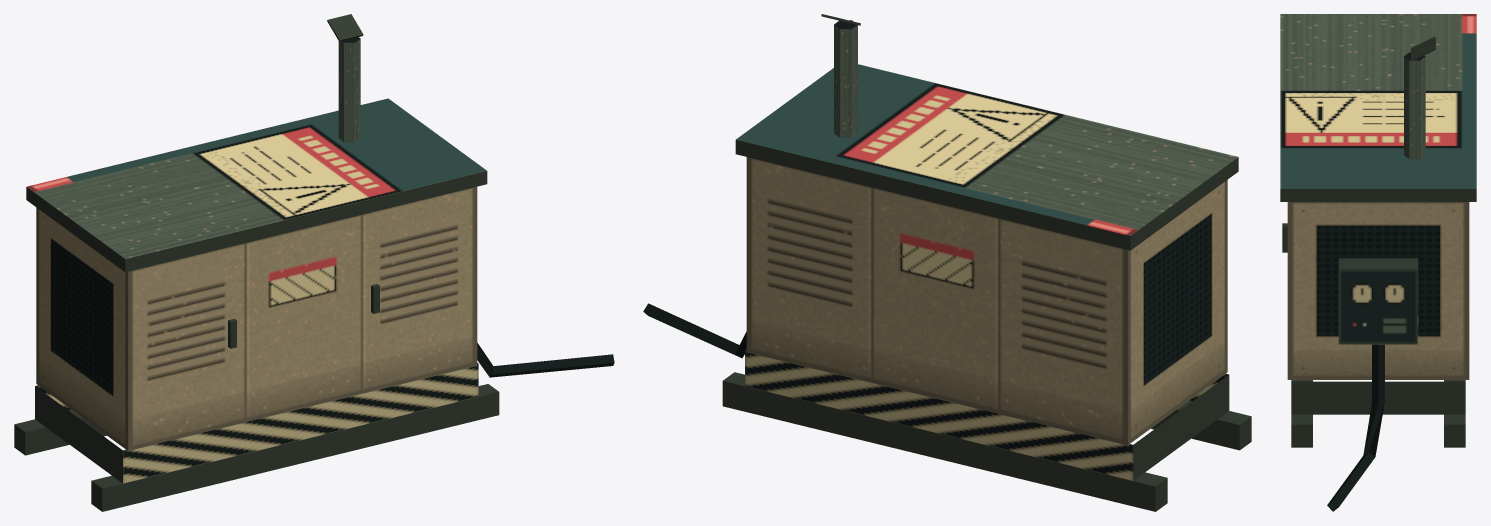
Rendered from SM_Forest_Generator_340x110x220.fbx.
3 views of the same model, side by side, from view 1: azimuth 30°, elevation 25°; view 2: azimuth 150°, elevation 25°; view 3: azimuth 270°, elevation 25° (orthographic). The views are drawn at different scales.
Parts seen in each view (by area): view 1: SM_Forest_Generator_340x110x220.001; view 2: SM_Forest_Generator_340x110x220.001; view 3: SM_Forest_Generator_340x110x220.001.
Part boxes in pixels (x1,y1,x2,y2): SM_Forest_Generator_340x110x220.001: (14,14,614,511); SM_Forest_Generator_340x110x220.001: (643,14,1251,511); SM_Forest_Generator_340x110x220.001: (1280,14,1476,511).
Bounding box in the file's own units: 3.36 × 2.21 × 1.08.
